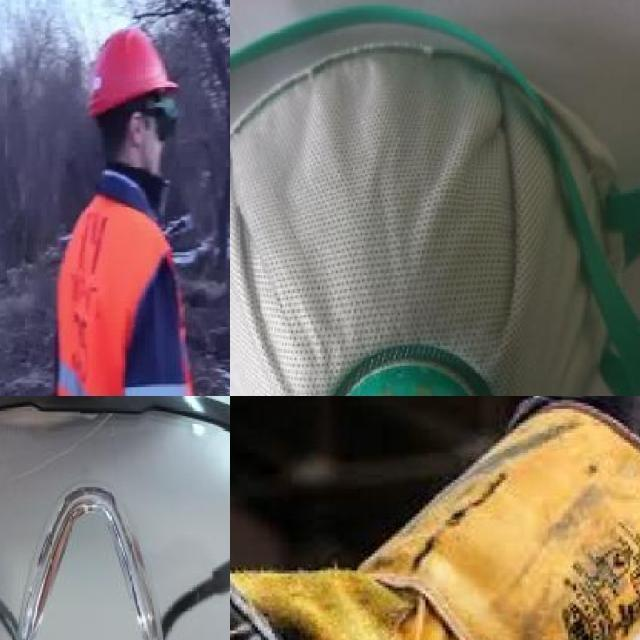apron: (230, 396, 640, 640)
